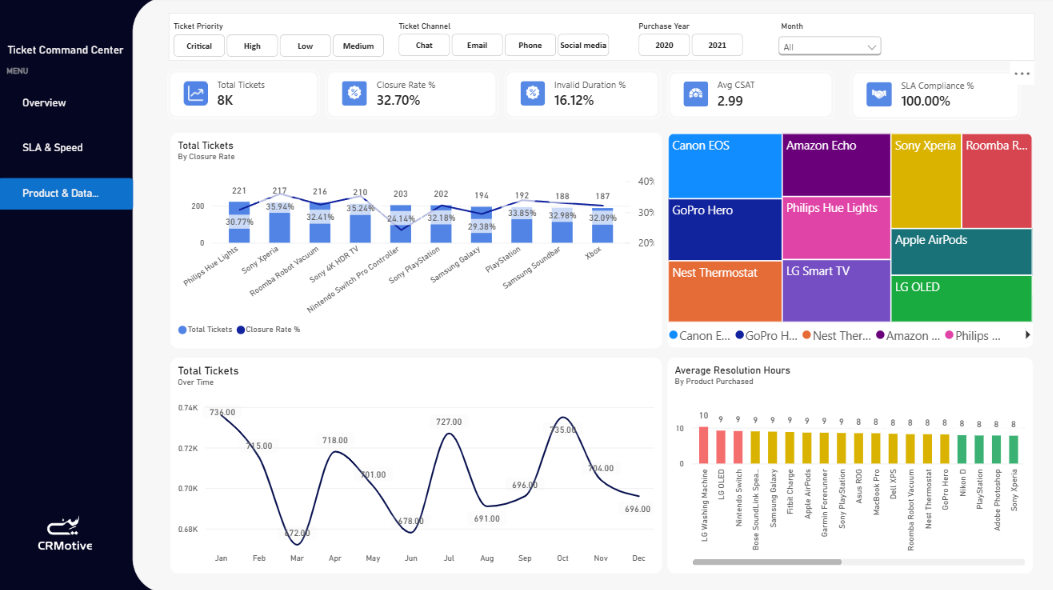

What the dashboard file says about the page in this screenshot:
{"tool":"powerbi","page":{"name":"Product & Data Quality","canvas":[1280,720],"ordinal":2},"visuals":[{"type":"image","box":[0,0,205.2,719.9],"z":0},{"type":"actionButton","box":[0,108.8,163.8,38.8],"z":1000},{"type":"textbox","box":[10.3,77.8,92.3,32.5],"z":2000},{"type":"actionButton","box":[0,162.5,163.8,38.8],"z":3000},{"type":"actionButton","box":[0,218.8,163.8,38.8],"z":4000},{"type":"shape","box":[206,19.3,1045.4,58],"z":5000},{"type":"advancedSlicerVisual","title":"Ticket Priority","fields":{"Values":["DimPriority.Ticket_Priority"]},"box":[212.5,30,310,47.5],"z":6000},{"type":"advancedSlicerVisual","title":"Ticket Channel","fields":{"Values":["DimChannel.Ticket_Channel"]},"box":[483.8,30,270,47.5],"z":7000},{"type":"advancedSlicerVisual","title":"Purchase Year","fields":{"Values":["FactTickets.Purchase_Year"]},"box":[773.8,30,133.8,50],"z":8000},{"type":"slicer","title":"Purchase Month","fields":{"Values":["DimDate.Month"]},"box":[937.5,30,133.8,47.5],"z":9000},{"type":"cardVisual","fields":{"Data":["FactTickets.Total Tickets"]},"box":[205.7,88.3,183.1,59.2],"z":10000},{"type":"cardVisual","fields":{"Data":["FactTickets.Avg CSAT"]},"box":[808.3,88.8,201.3,58.2],"z":11000},{"type":"cardVisual","fields":{"Data":["FactTickets.Closure Rate %"]},"box":[396.2,88.5,208.5,59.2],"z":12000},{"type":"cardVisual","fields":{"Data":["FactTickets.Invalid Duration %"]},"box":[611.9,87.8,188.5,59.2],"z":13000},{"type":"lineChart","title":"Total Tickets","fields":{"Category":["DimDate.Month"],"Y":["FactTickets.Total Tickets"]},"box":[208.2,435.1,592.4,260],"z":14000},{"type":"lineStackedColumnComboChart","title":"Total Tickets","fields":{"Category":["DimProduct.Product_Purchased"],"Y":["FactTickets.Total Tickets"],"Y2":["FactTickets.Closure Rate %"]},"box":[208.4,163.7,592.5,259.7],"z":15000},{"type":"treemap","fields":{"Group":["DimProduct.Product_Purchased"],"Values":["FactTickets.Total Tickets"]},"box":[808.3,163.8,441.1,259.6],"z":16000},{"type":"lineClusteredColumnComboChart","title":"Average Resolution Hours","fields":{"Category":["DimProduct.Product_Purchased"],"Y":["FactTickets.Avg Resolution (hrs)"]},"box":[808.1,435.1,440.8,260],"z":17000},{"type":"cardVisual","fields":{"Data":["FactTickets.SLA Compliance %"]},"box":[1028.8,88.8,205,59.3],"z":18000},{"type":"image","box":[41,623.7,80.8,45.8],"z":19000},{"type":"actionButton","box":[0,36.2,164.1,57.9],"z":19001}]}

Visuals, with their boxes on the page's 1280x720 design canvas (x1, y1, x2, y2). These are canvas units, not pixel positions in the 1053x590 screenshot, which may show the page scaled, cropped or inside an application window:
image: (x1=0, y1=0, x2=205, y2=720)
actionButton: (x1=0, y1=109, x2=164, y2=148)
textbox: (x1=10, y1=78, x2=103, y2=110)
actionButton: (x1=0, y1=162, x2=164, y2=201)
actionButton: (x1=0, y1=219, x2=164, y2=258)
shape: (x1=206, y1=19, x2=1251, y2=77)
"Ticket Priority" advancedSlicerVisual: (x1=212, y1=30, x2=522, y2=78)
"Ticket Channel" advancedSlicerVisual: (x1=484, y1=30, x2=754, y2=78)
"Purchase Year" advancedSlicerVisual: (x1=774, y1=30, x2=908, y2=80)
"Purchase Month" slicer: (x1=938, y1=30, x2=1071, y2=78)
cardVisual - FactTickets.Total Tickets: (x1=206, y1=88, x2=389, y2=148)
cardVisual - FactTickets.Avg CSAT: (x1=808, y1=89, x2=1010, y2=147)
cardVisual - FactTickets.Closure Rate %: (x1=396, y1=88, x2=605, y2=148)
cardVisual - FactTickets.Invalid Duration %: (x1=612, y1=88, x2=800, y2=147)
"Total Tickets" lineChart: (x1=208, y1=435, x2=801, y2=695)
"Total Tickets" lineStackedColumnComboChart: (x1=208, y1=164, x2=801, y2=423)
treemap - DimProduct.Product_Purchased x FactTickets.Total Tickets: (x1=808, y1=164, x2=1249, y2=423)
"Average Resolution Hours" lineClusteredColumnComboChart: (x1=808, y1=435, x2=1249, y2=695)
cardVisual - FactTickets.SLA Compliance %: (x1=1029, y1=89, x2=1234, y2=148)
image: (x1=41, y1=624, x2=122, y2=670)
actionButton: (x1=0, y1=36, x2=164, y2=94)
